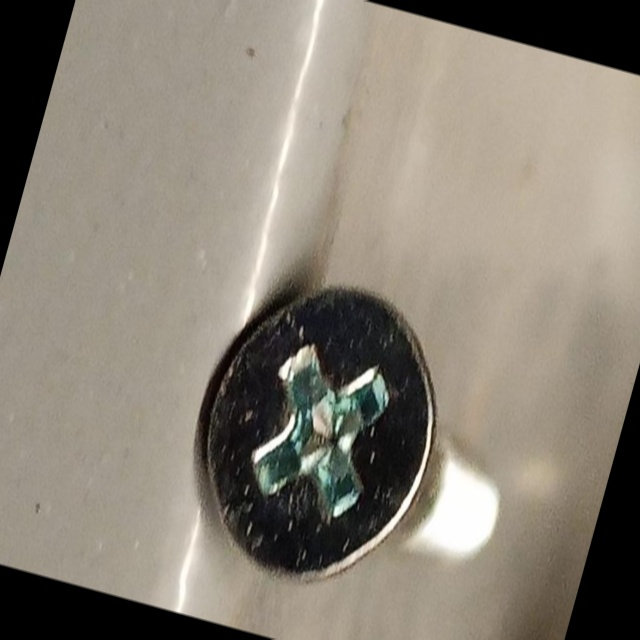phillips: (171, 261, 466, 607)
